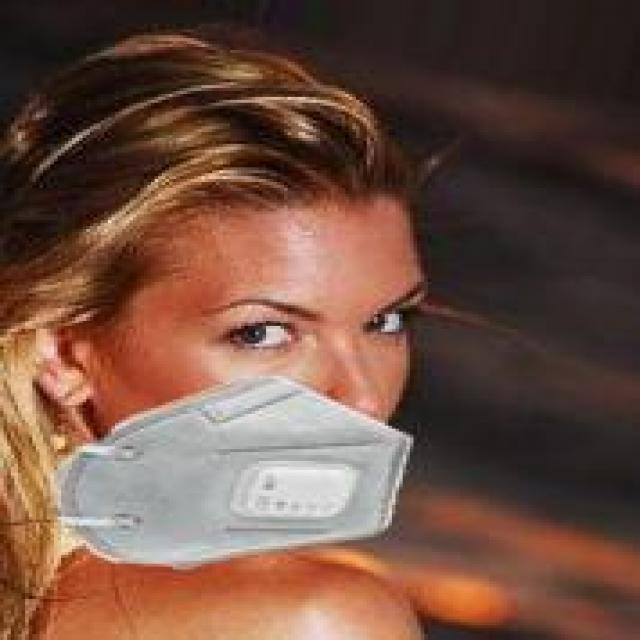mask: (7, 62, 507, 581)
